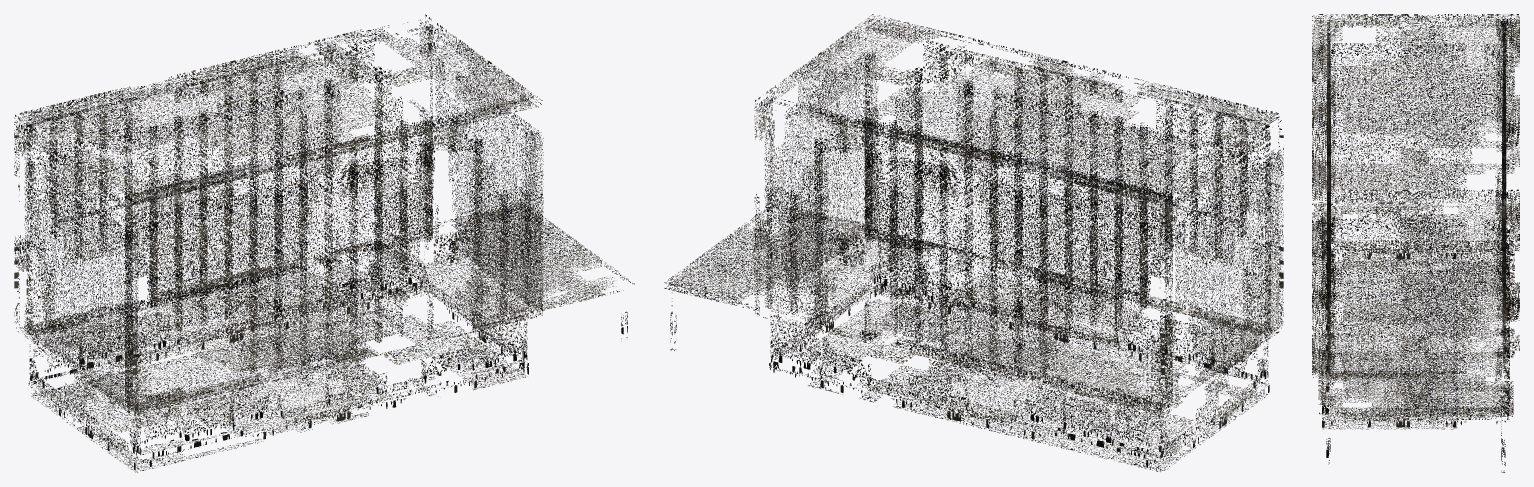
Rendered from OverhangOfficeBuilding.fbx.
3 views of the same model, side by side, from view 1: azimuth 30°, elevation 25°; view 2: azimuth 150°, elevation 25°; view 3: azimuth 270°, elevation 25° (orthographic). The views are drawn at different scales.
Visible parts, largest first — view 1: TechCampusG; view 2: TechCampusG; view 3: TechCampusG.
Part boxes in pixels (box(x1,y1,x2,y2)): TechCampusG: box(14, 14, 634, 472); TechCampusG: box(664, 14, 1283, 471); TechCampusG: box(1312, 14, 1519, 472).
Bounding box in the file's own units: 320 × 168 × 130.
Materials: 1 (1 with a texture image).
